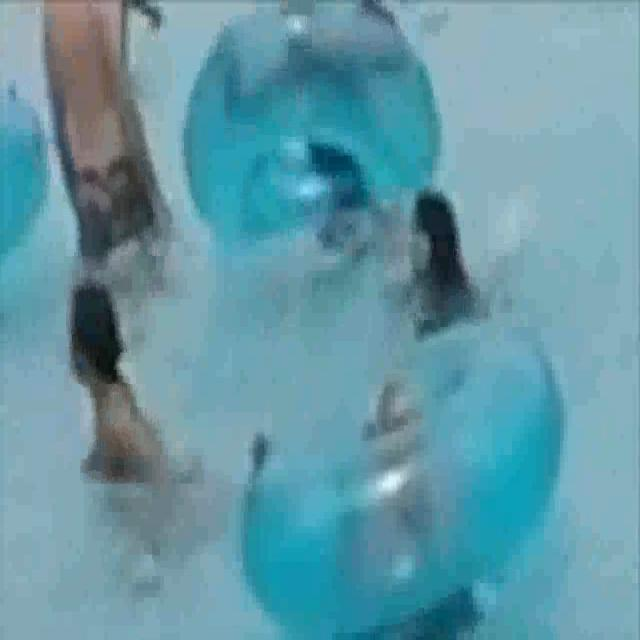drowning: (374, 185, 540, 347)
